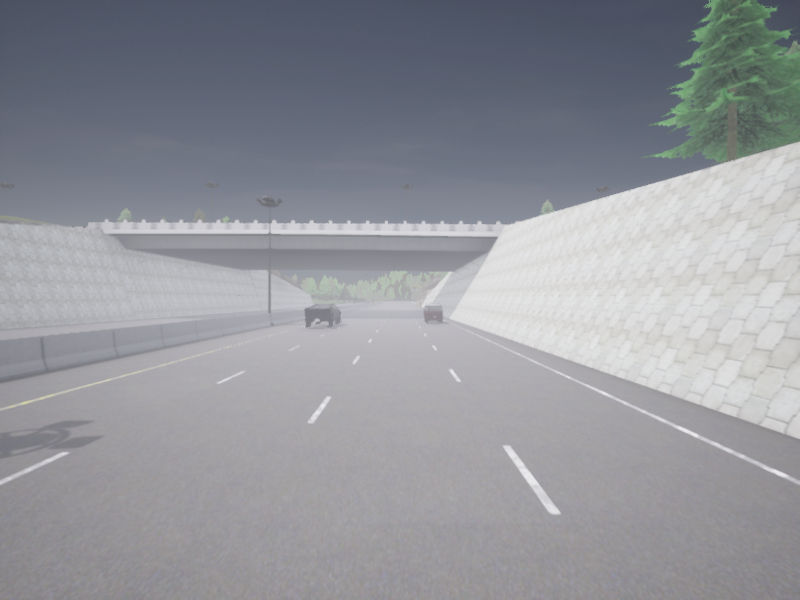vehicle: (305, 303, 340, 326), (423, 304, 442, 322)
